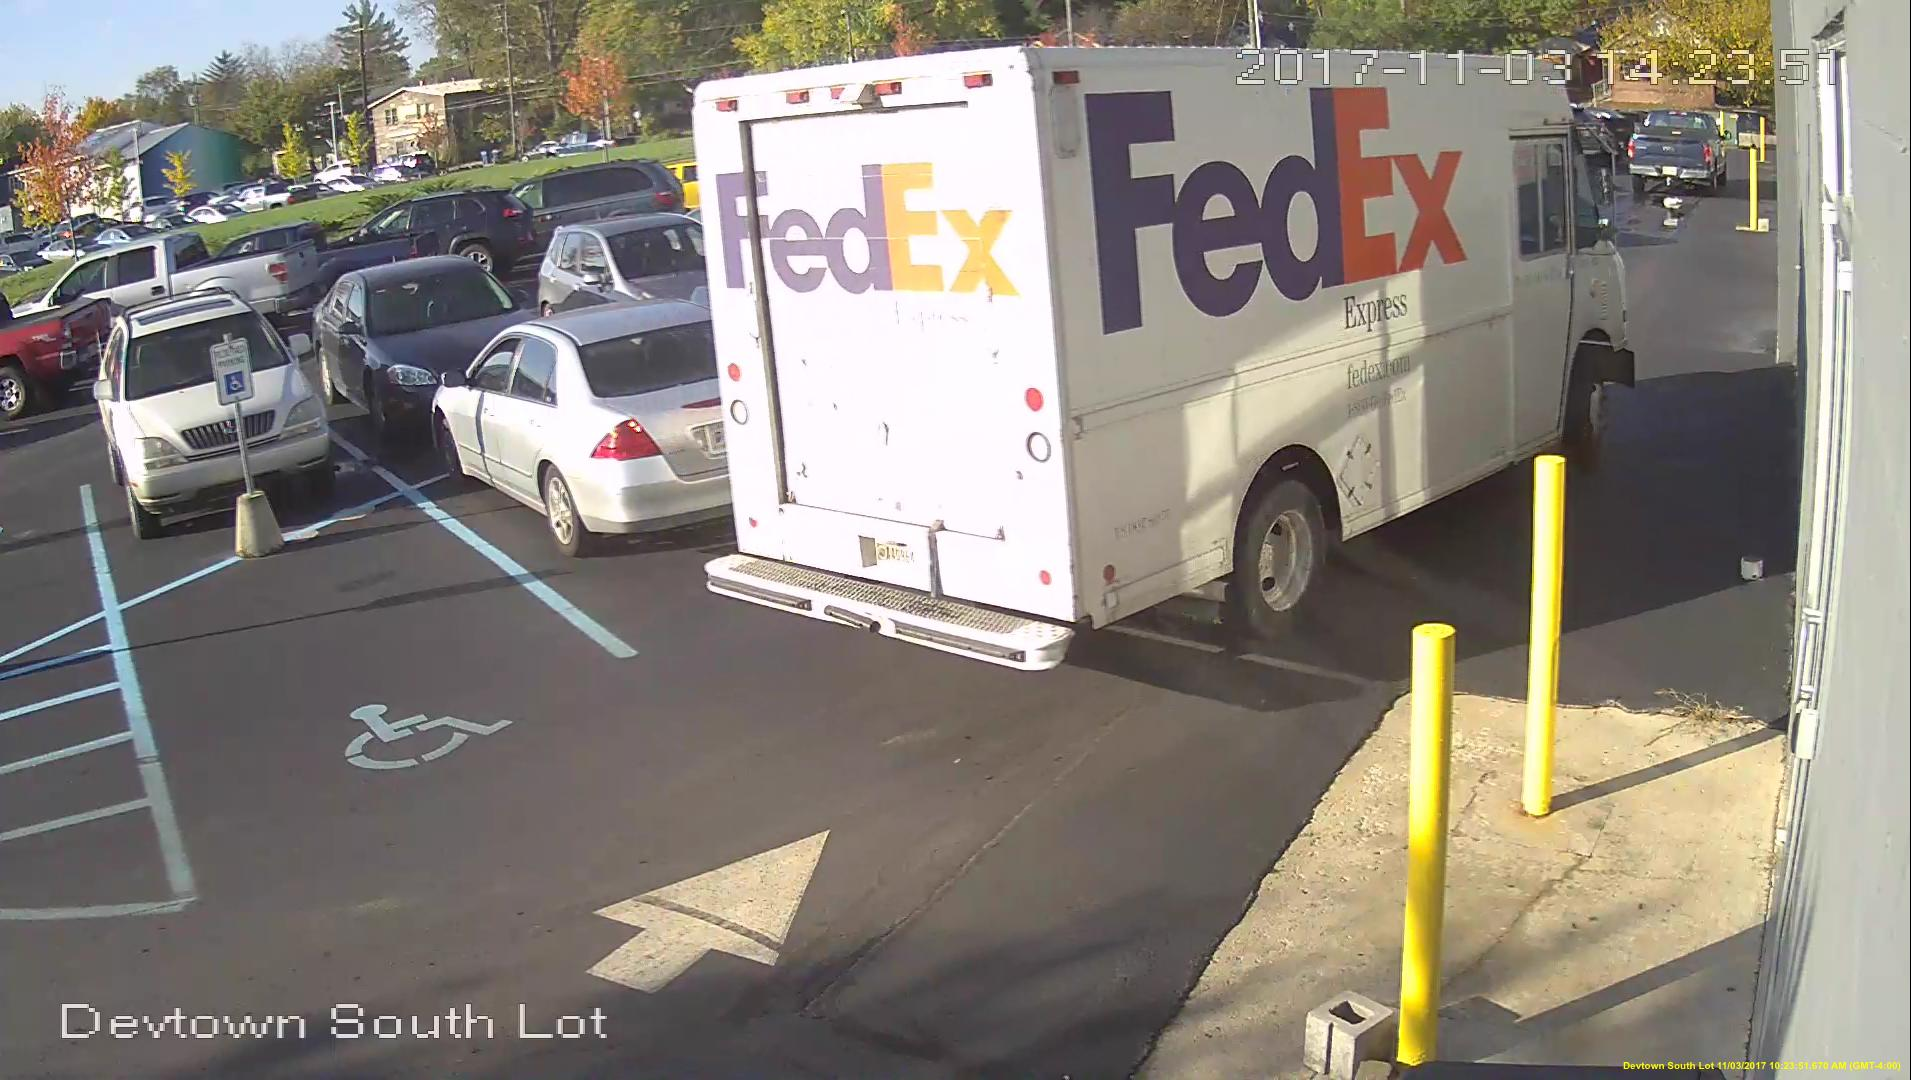fedex_truck: (686, 35, 1645, 678)
